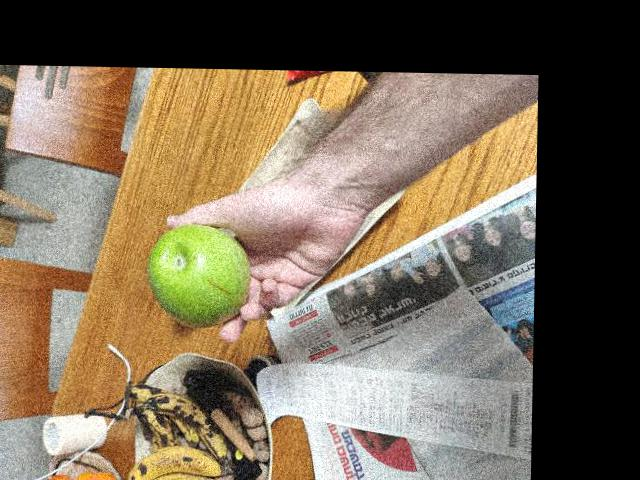apple: (145, 219, 248, 326)
